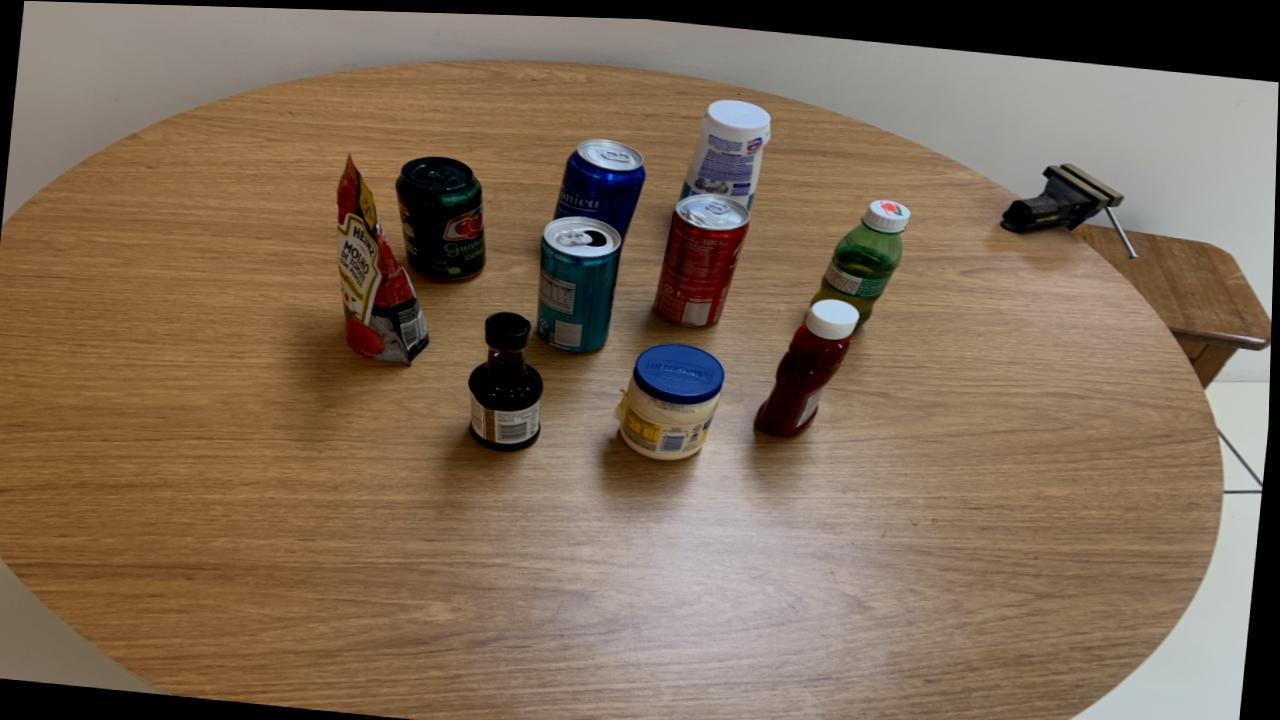Cleaner-Cleanup_Items: (681, 94, 772, 203)
Coke-Drinks: (656, 188, 750, 321)
English_Sauce-Pantry_Items: (470, 308, 546, 447)
Guarana-Drinks: (812, 193, 911, 321)
Guarana_Can-Drinks: (396, 153, 487, 276)
Ketchup-Pantry_Items: (758, 293, 861, 430)
Mayonnaise-Pantry_Items: (618, 339, 726, 456)
Tea-Drinks: (538, 211, 622, 348)
Tomato_Sauce-Pantry_Items: (337, 155, 432, 362)
Tonic-Drinks: (554, 134, 646, 233)
